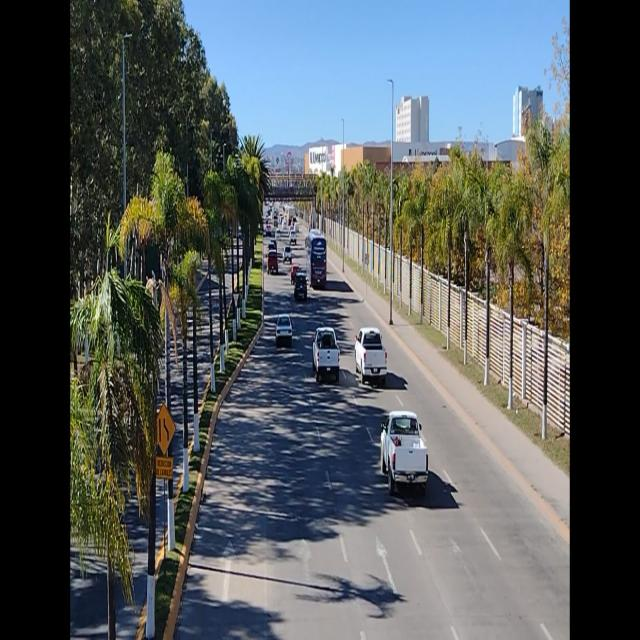Auto: (378, 409, 430, 494), (355, 324, 389, 388), (310, 323, 342, 383), (274, 312, 293, 346), (292, 272, 309, 306)
Autobus: (306, 231, 329, 290)
